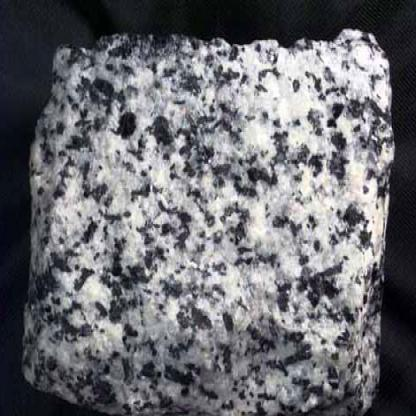Igneous_Diorite: (49, 71, 321, 380)
